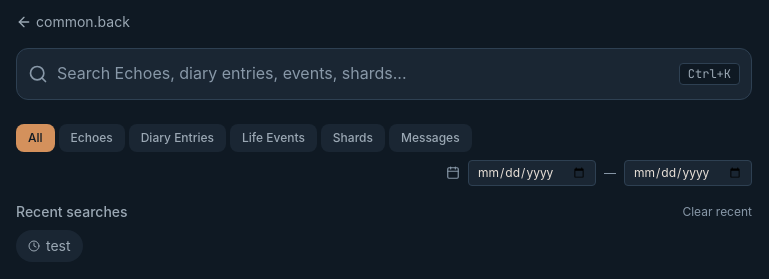
it: SearchPage › clears recent searches
The image size is (769, 279).
Click the button "Clear recent": coordinates (717, 212) [682, 204, 752, 220]
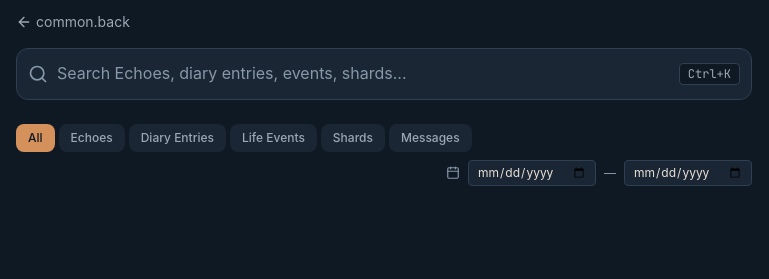
Check: the button "test" is gone
